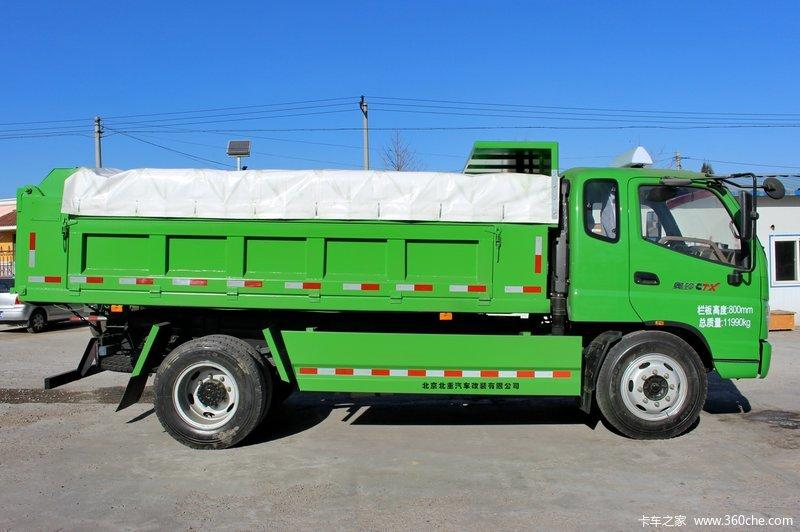truck: (13, 128, 796, 462)
